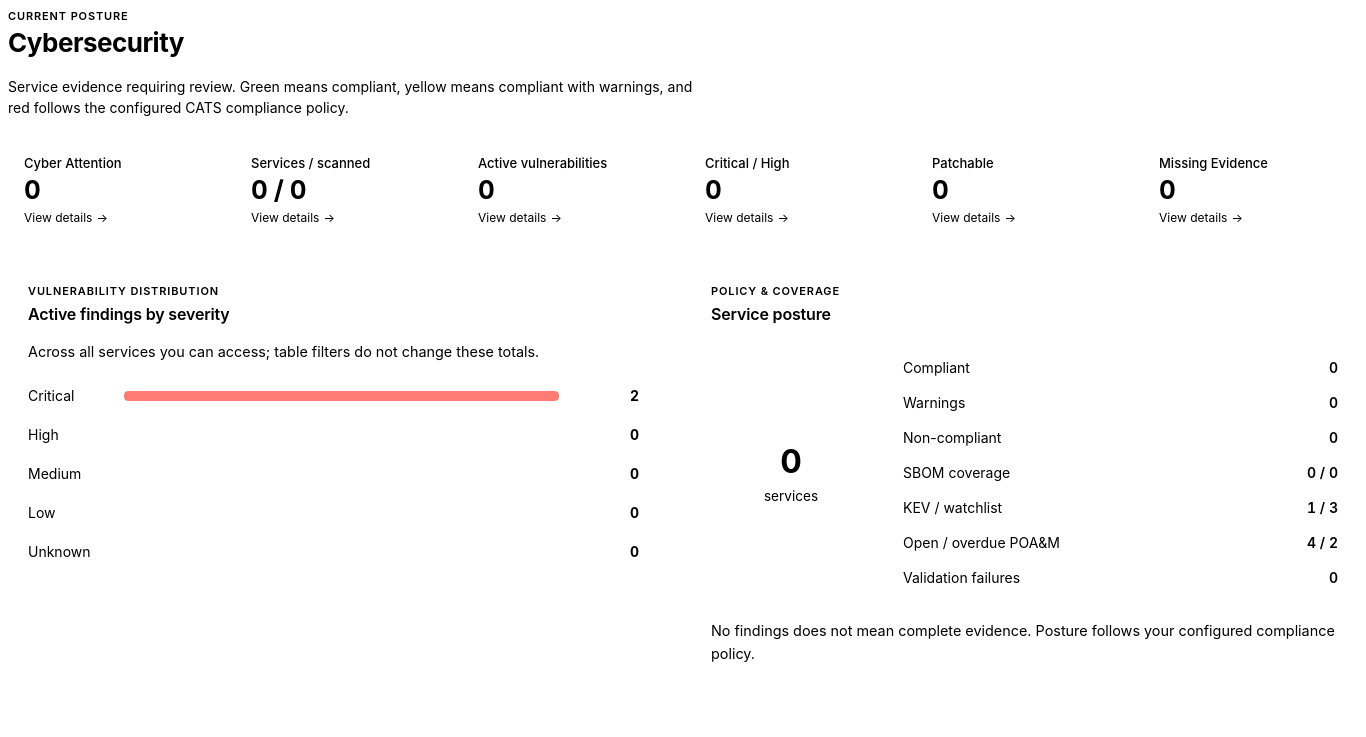
loads severity contributors on demand and exposes both combined coverage metrics
Check: the button named "Watchlist" is shown, box [1329,497,1338,518]
Check: the button named "Overdue POA&M" is shown, box [1329,532,1338,553]
Click the button "Critical 2" at (334, 396), box [20,379,647,412]
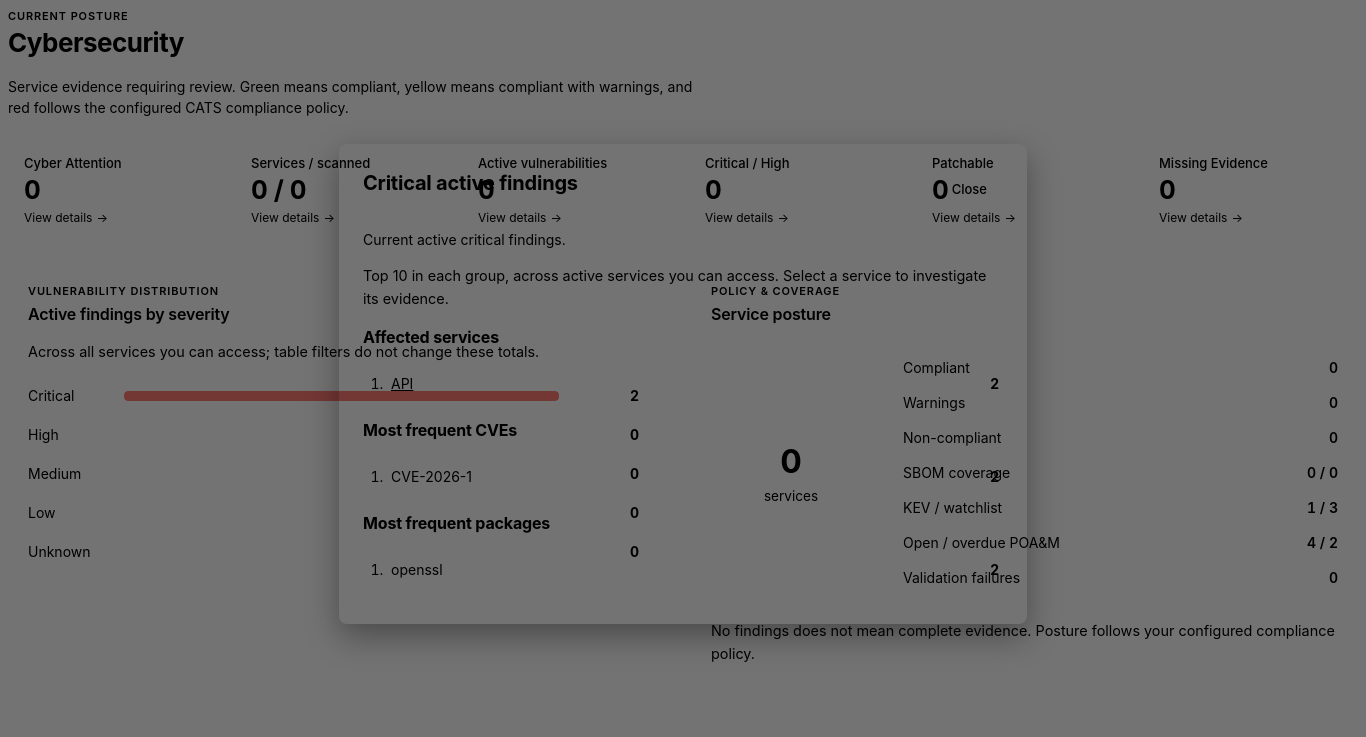
Check: the text "CVE-2026-1" is shown, box [391,468,472,485]
Check: the text "openssl" is shown, box [391,561,443,578]
Click the button "Close" at (969, 190), box [936,172,1003,208]
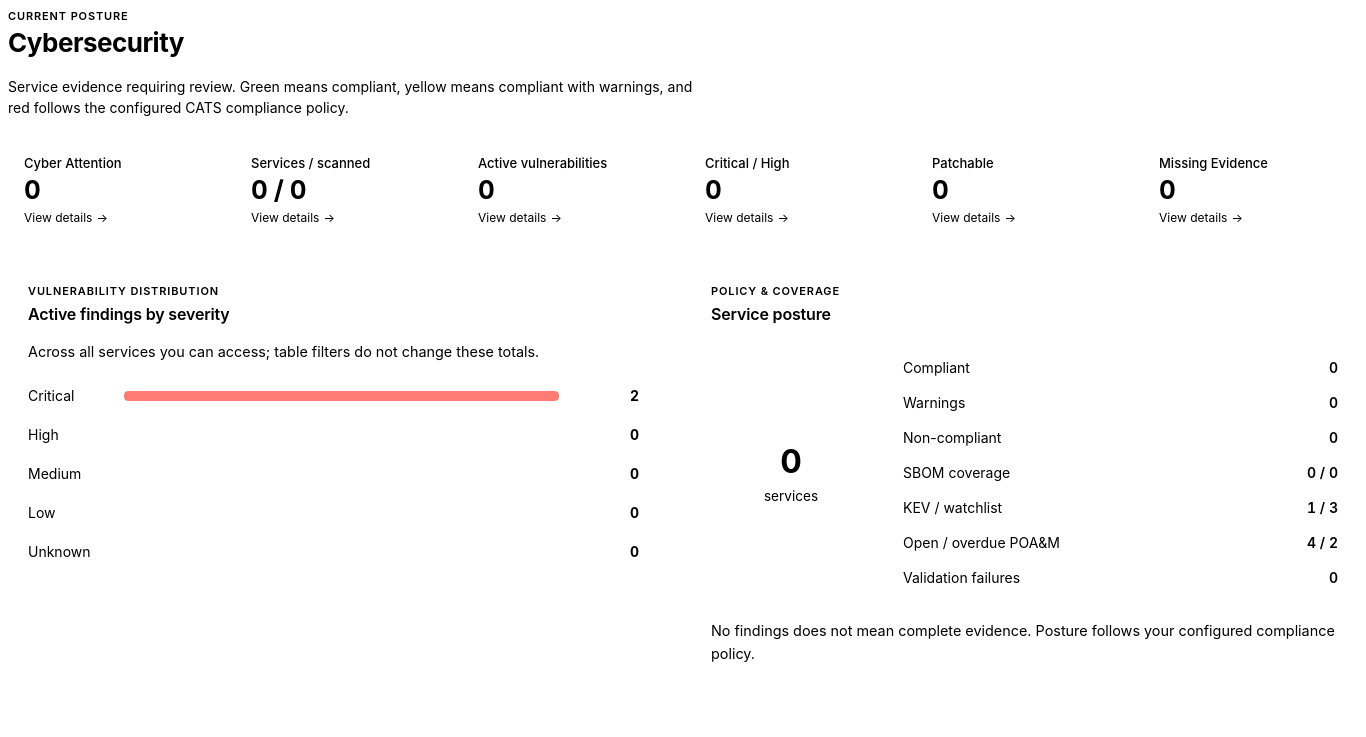
Check: the dialog is gone
